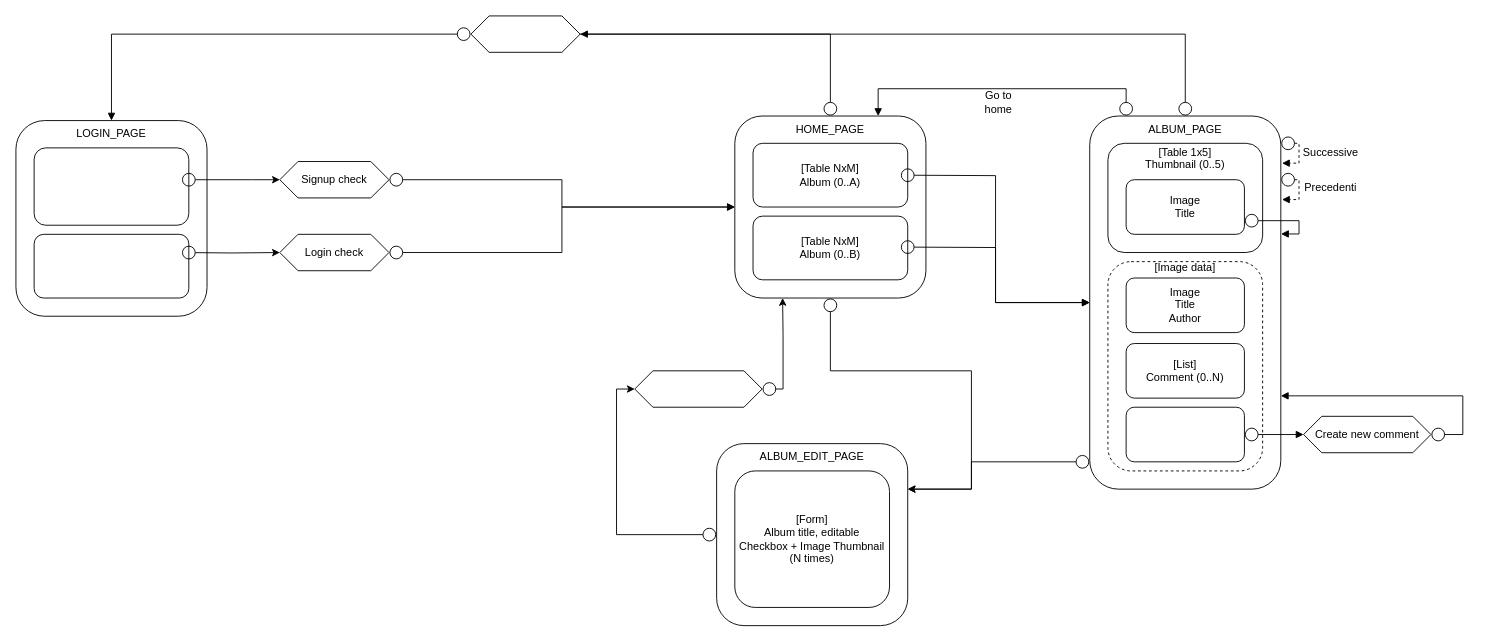
Image size: 1487x642. Some labels were removed from this diagram. The shapes that lost their labels are listed below. From the top down, each one's centre as x and y in pixels, then its label:
At point (525, 33): "Logout".
At point (111, 186): "[Signup form] nickname e-mail password repeat password".
At point (111, 265): "[Login form] e-mail password".
At point (698, 388): "Create/edit album".
At point (1184, 434): "[Form] Commento text".
